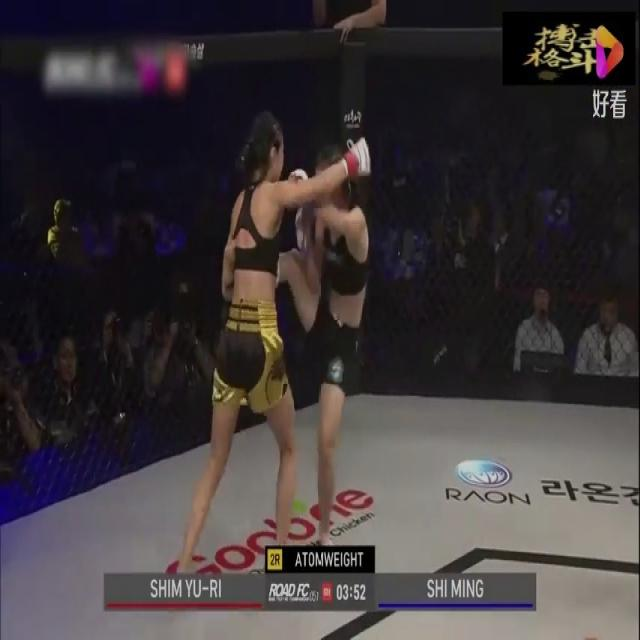fight: (191, 97, 377, 575)
